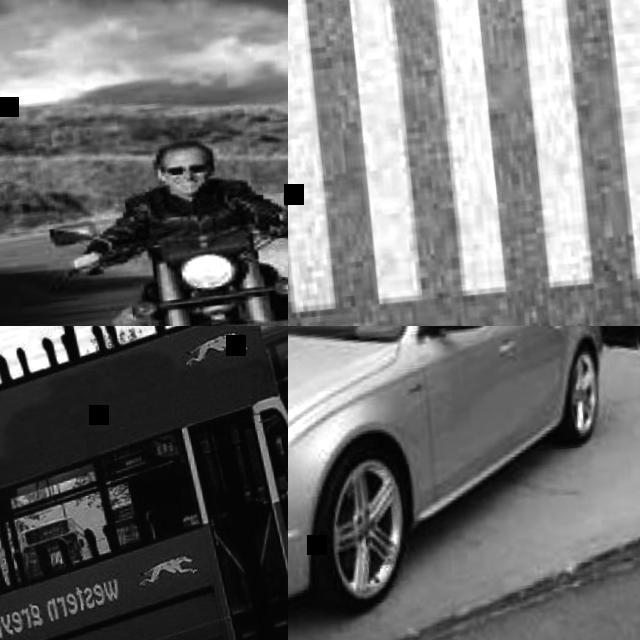car: (293, 325, 606, 631)
